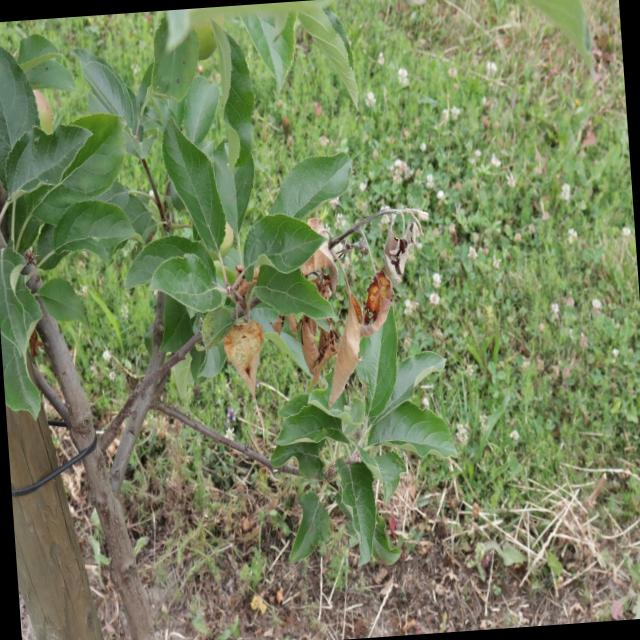-FireBlight-: (327, 286, 365, 401), (222, 312, 264, 388), (359, 250, 398, 328), (381, 210, 430, 272), (292, 232, 340, 292), (287, 322, 333, 376)
